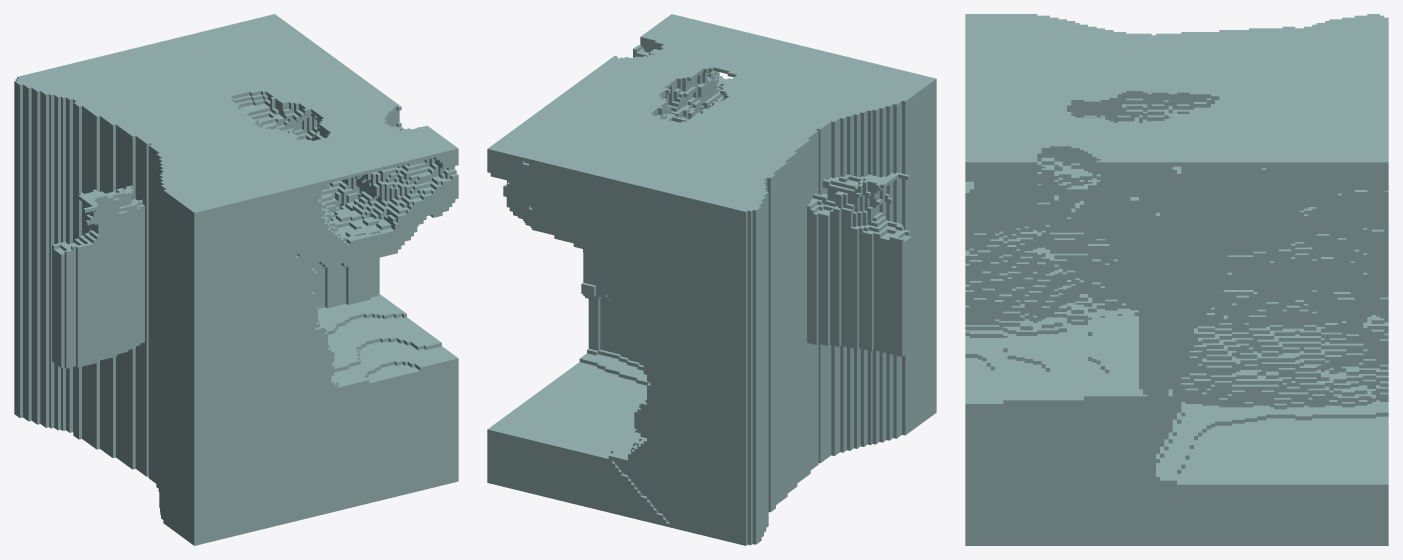
The model's file is TerrainPieces-13.obj.
3 views of the same model, side by side, from view 1: azimuth 30°, elevation 25°; view 2: azimuth 150°, elevation 25°; view 3: azimuth 270°, elevation 25° (orthographic). The views are drawn at different scales.
Parts seen in each view (by area): view 1: TerrainPieces-13; view 2: TerrainPieces-13; view 3: TerrainPieces-13.
Part boxes in pixels (x1,y1,x2,y2): TerrainPieces-13: [14, 14, 458, 545]; TerrainPieces-13: [487, 14, 936, 545]; TerrainPieces-13: [965, 14, 1388, 545].
Size of the model in its own units: 100 by 100 by 100.
1 material, 1 textured.
